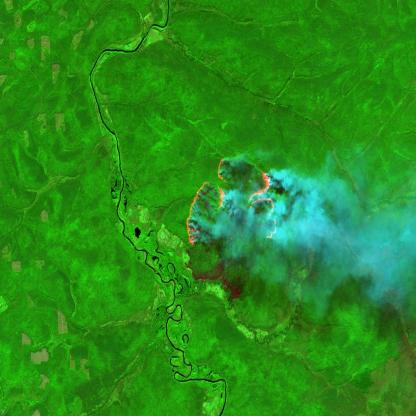fire: (184, 151, 281, 252)
